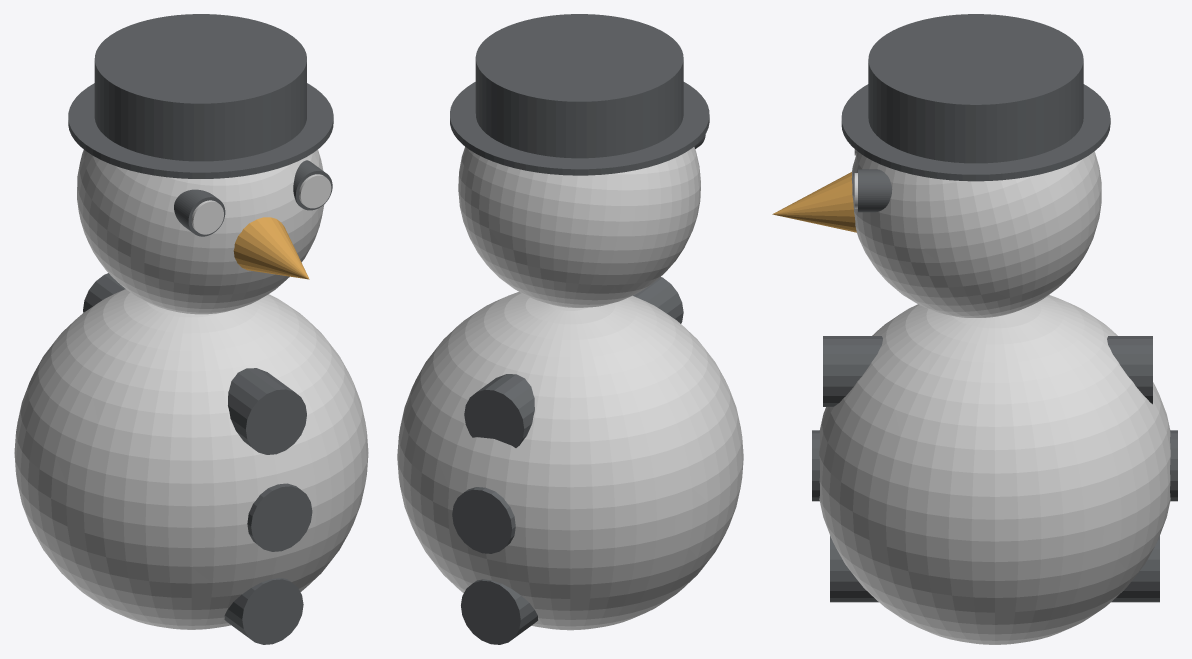
File: Snowman by neeal singroha.glb
3 renders of one model, left to right at view 1: azimuth 30°, elevation 25°; view 2: azimuth 150°, elevation 25°; view 3: azimuth 270°, elevation 25°, orthographic. The views are drawn at different scales.
Parts seen in each view (by area): view 1: Mesh_Mesh_head_geo.001_lambert2SG.001; view 2: Mesh_Mesh_head_geo.001_lambert2SG.001; view 3: Mesh_Mesh_head_geo.001_lambert2SG.001.
Boxes of the visible parts, left/top/right/bottom form: Mesh_Mesh_head_geo.001_lambert2SG.001: left=14, top=14, right=368, bottom=644; Mesh_Mesh_head_geo.001_lambert2SG.001: left=397, top=14, right=743, bottom=644; Mesh_Mesh_head_geo.001_lambert2SG.001: left=772, top=14, right=1177, bottom=644.
Bounding box in the file's own units: 0.1 × 0.175 × 0.1132.
